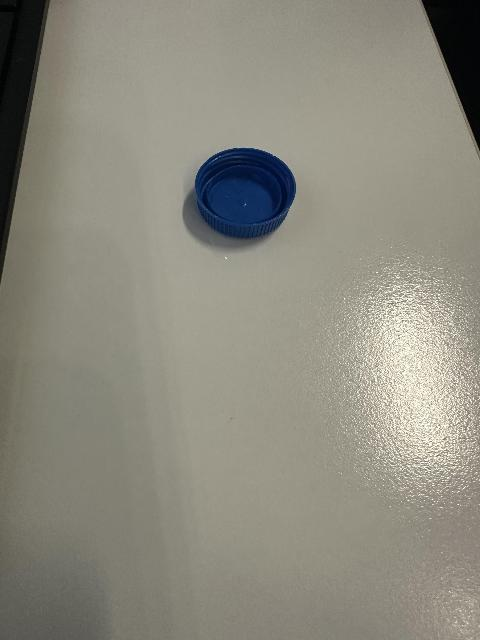Plastik: (187, 137, 303, 232)
